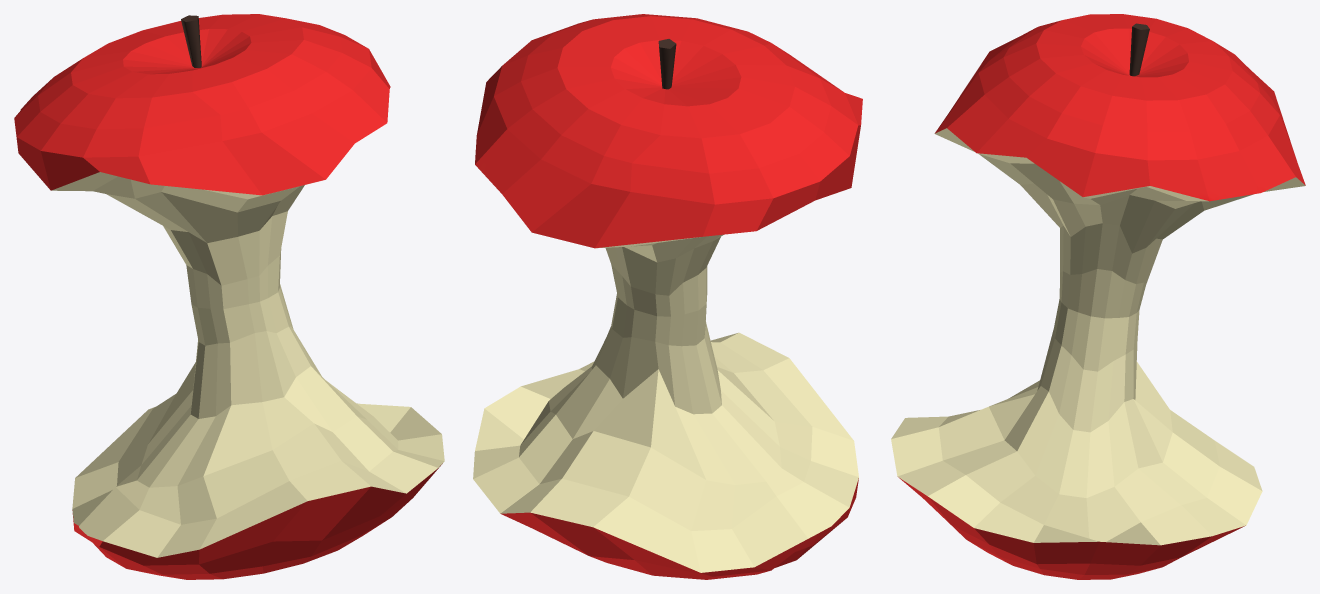
The model's file is Apple.FBX.
3 views of the same model, side by side, from view 1: azimuth 30°, elevation 25°; view 2: azimuth 150°, elevation 25°; view 3: azimuth 270°, elevation 25° (orthographic). The views are drawn at different scales.
Parts seen in each view (by area): view 1: Apple; view 2: Apple; view 3: Apple.
Part boxes in pixels (x1=…): Apple: x1=14, y1=14, x2=444, y2=579; Apple: x1=473, y1=14, x2=862, y2=579; Apple: x1=891, y1=14, x2=1305, y2=579.
Bounding box in the file's own units: 38.63 × 38.41 × 52.22.
